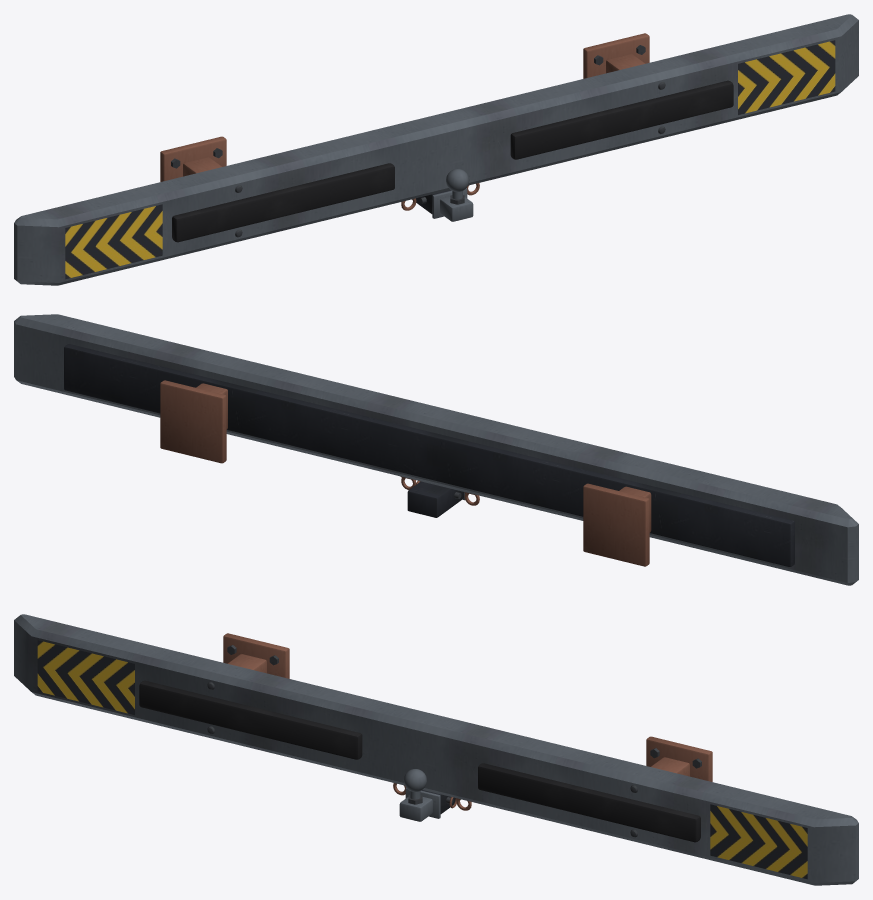
File: bumper_rear.glb
The picture shows the model from 3 angles, top to bottom: view 1: azimuth 30°, elevation 25°; view 2: azimuth 150°, elevation 25°; view 3: azimuth 330°, elevation 25°; orthographic projection.
Parts seen in each view (by area): view 1: BumperRearBody; view 2: BumperRearBody; view 3: BumperRearBody.
Part boxes in pixels (x1,y1,x2,y2): BumperRearBody: [14, 14, 858, 285]; BumperRearBody: [14, 314, 858, 585]; BumperRearBody: [14, 614, 858, 885].
Size of the model in its own units: 1.99 by 0.2 by 0.2486.
Materials: 7 (7 with a texture image).
